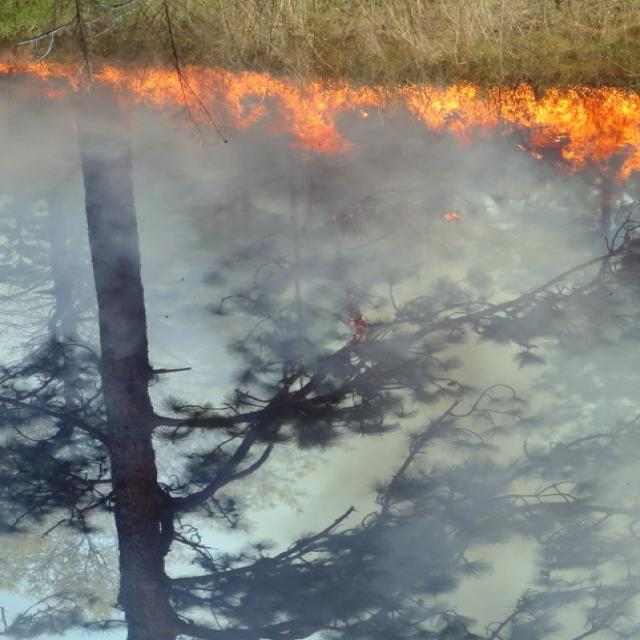fire: (0, 49, 640, 209)
